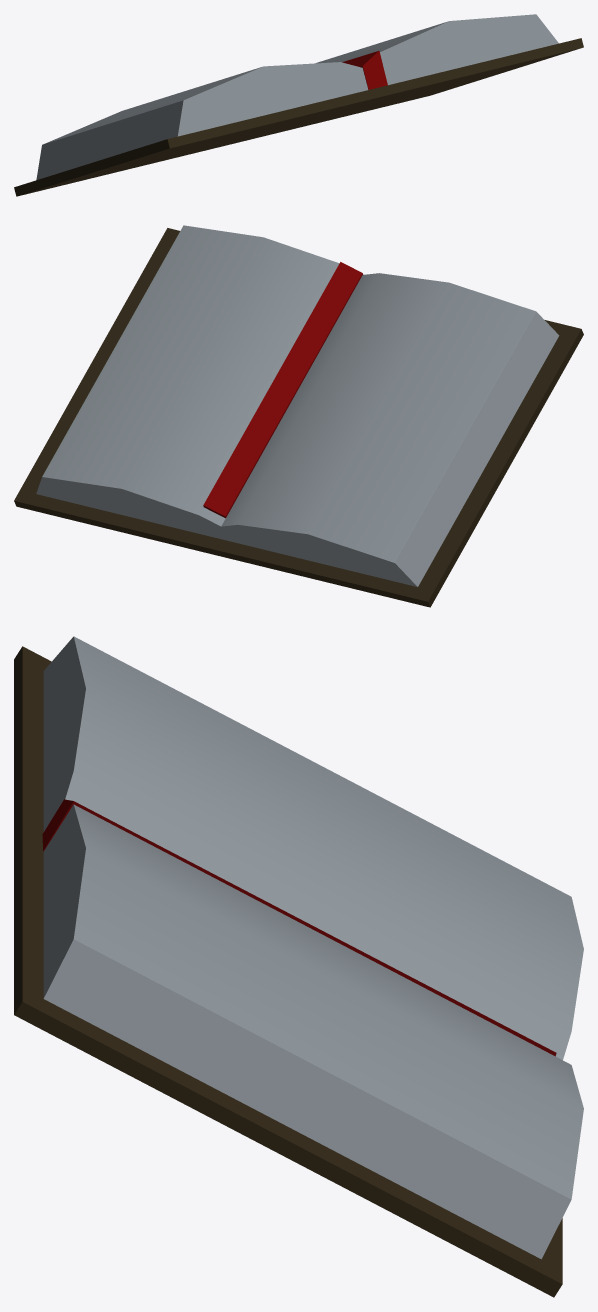
3 views of the same model, one above another, from view 1: azimuth 30°, elevation 25°; view 2: azimuth 150°, elevation 25°; view 3: azimuth 270°, elevation 25° (orthographic). The views are drawn at different scales.
Parts seen in each view (by area): view 1: Box045; view 2: Box045; view 3: Box045.
Boxes of the visible parts, bbox=[...] form: Box045: bbox=[14, 14, 583, 196]; Box045: bbox=[14, 225, 583, 607]; Box045: bbox=[14, 636, 583, 1297].
Bounding box in the file's own units: 0.5197 × 0.2396 × 0.3521.
